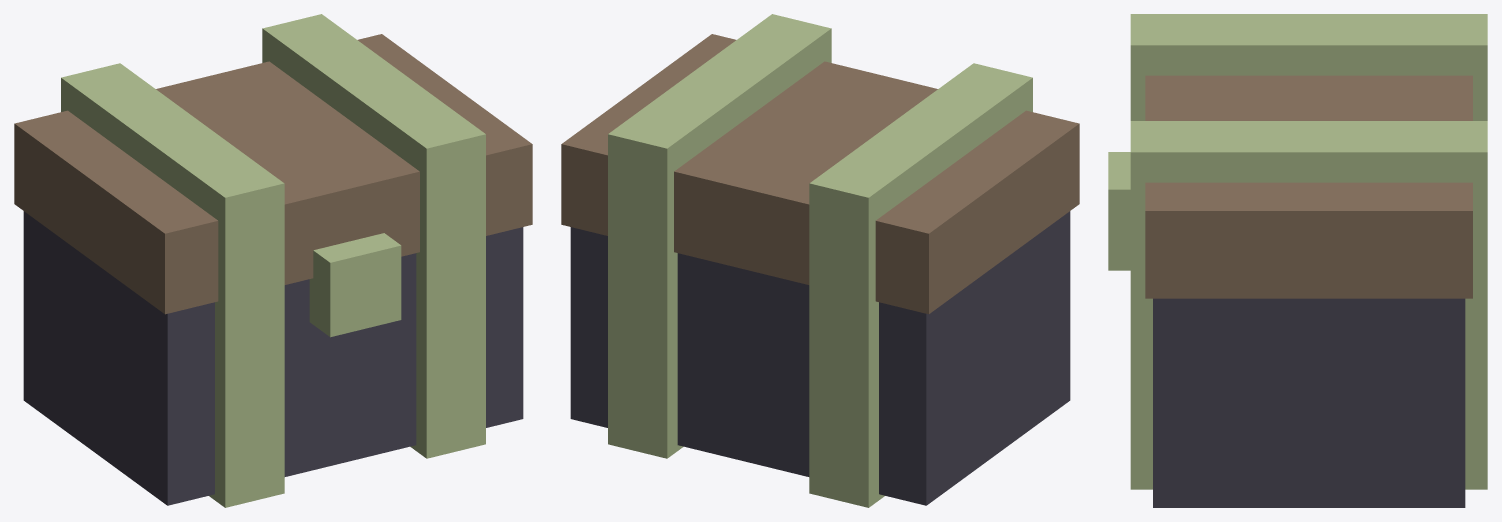
The model's file is chest.glb.
The picture shows the model from 3 angles, left to right: view 1: azimuth 30°, elevation 25°; view 2: azimuth 150°, elevation 25°; view 3: azimuth 270°, elevation 25°; orthographic projection. The views are drawn at different scales.
Parts seen in each view (by area): view 1: Box, Lid, BandR, BandL, Lock; view 2: Box, Lid, BandR, BandL; view 3: Box, Lid, BandL, BandR, Lock.
Part boxes in pixels (x1,y1,x2,y2): Box: (23, 211, 523, 505); Lid: (14, 34, 532, 314); BandR: (61, 63, 284, 507); BandL: (262, 14, 485, 458); Lock: (309, 233, 401, 337); Box: (570, 211, 1070, 505); Lid: (561, 34, 1079, 314); BandR: (809, 63, 1032, 507); BandL: (608, 14, 831, 458); Box: (1153, 298, 1465, 507); Lid: (1145, 75, 1472, 298); BandL: (1130, 121, 1487, 489); BandR: (1130, 14, 1487, 120); Lock: (1108, 152, 1130, 270).
Bounding box in the file's own units: 0.62 × 0.5 × 0.51.
